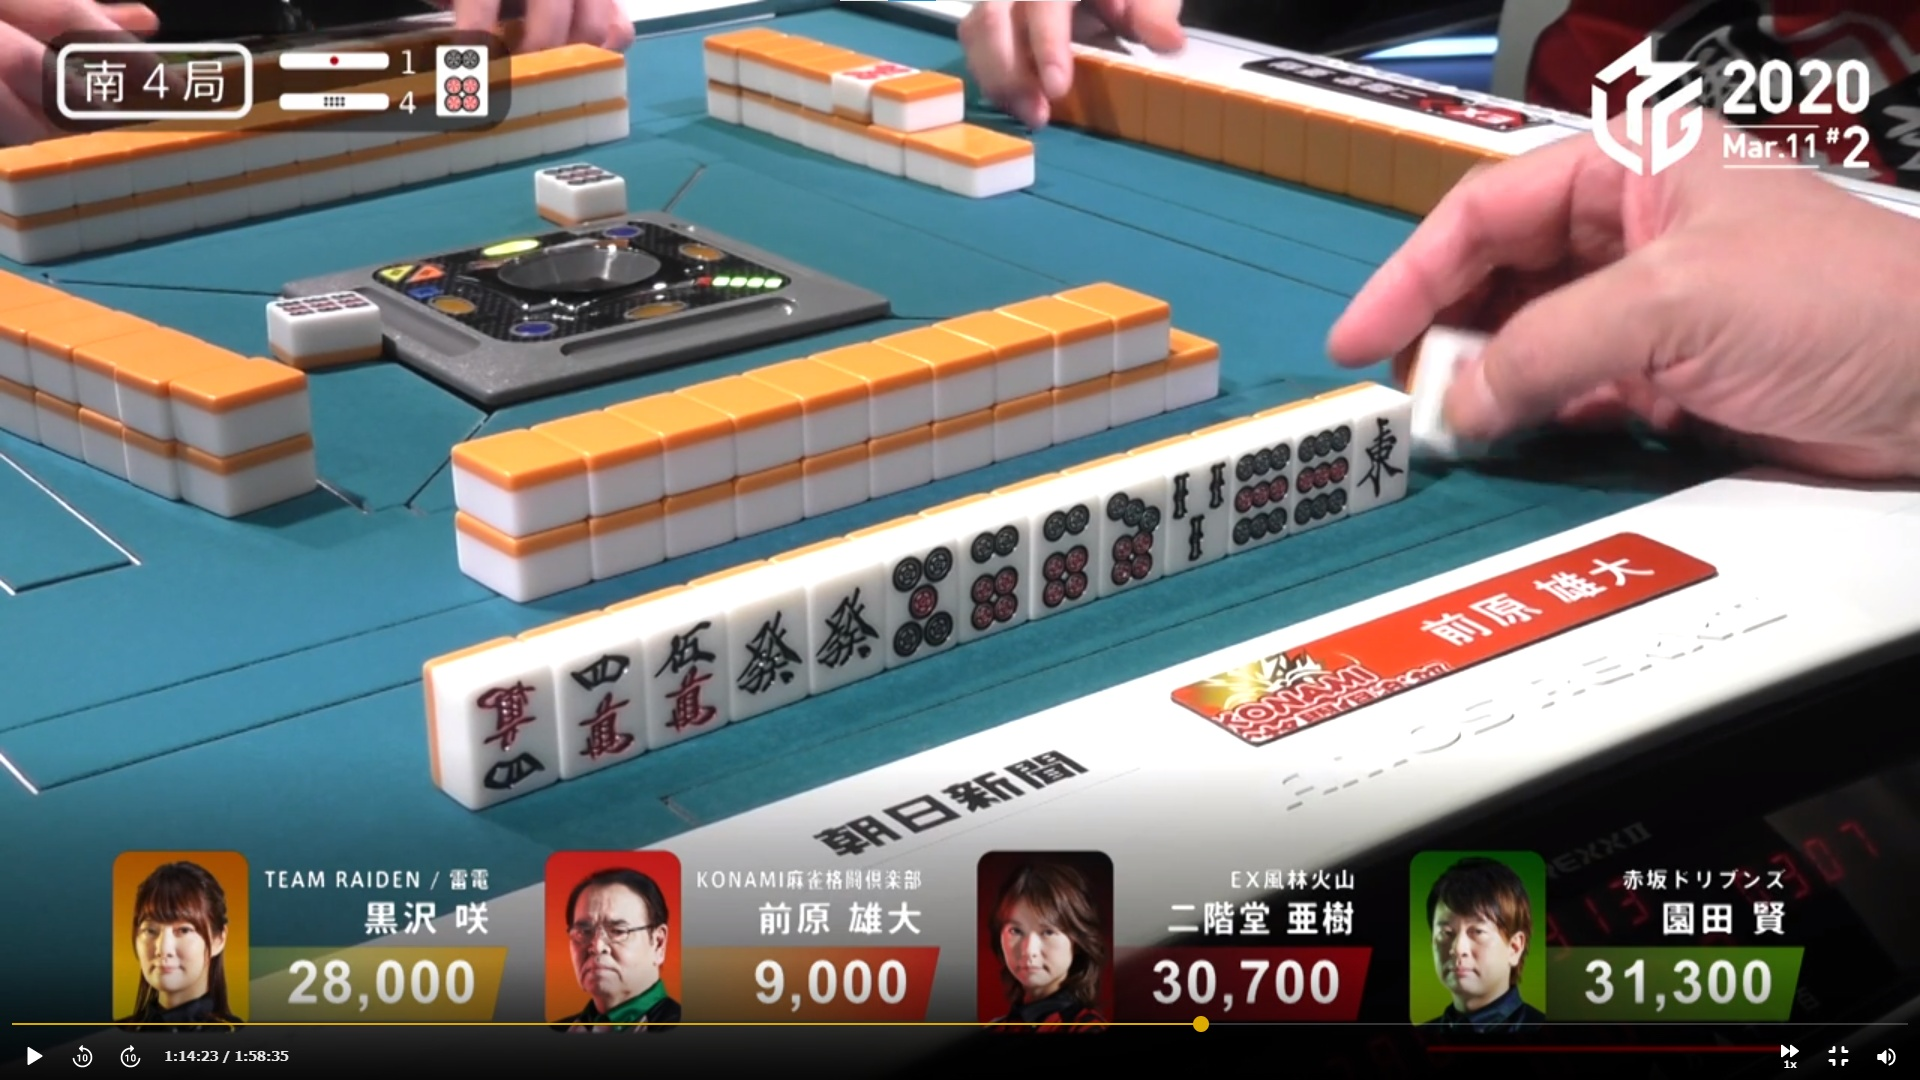3s: (1164, 456, 1230, 570)
4m: (462, 665, 558, 795), (560, 644, 645, 770)
5m: (644, 612, 727, 738)
5p: (881, 546, 959, 662)
6p: (1027, 496, 1096, 612), (961, 518, 1027, 634)
7p: (1093, 479, 1160, 592)
9p: (1228, 436, 1290, 542), (1295, 422, 1349, 531)
hand_nan_4: (51, 33, 262, 124)
hatsu: (731, 596, 810, 716), (810, 564, 882, 683)
round_4: (276, 84, 426, 117)
team_konami: (1167, 626, 1465, 749)
ton: (1357, 404, 1406, 510)
